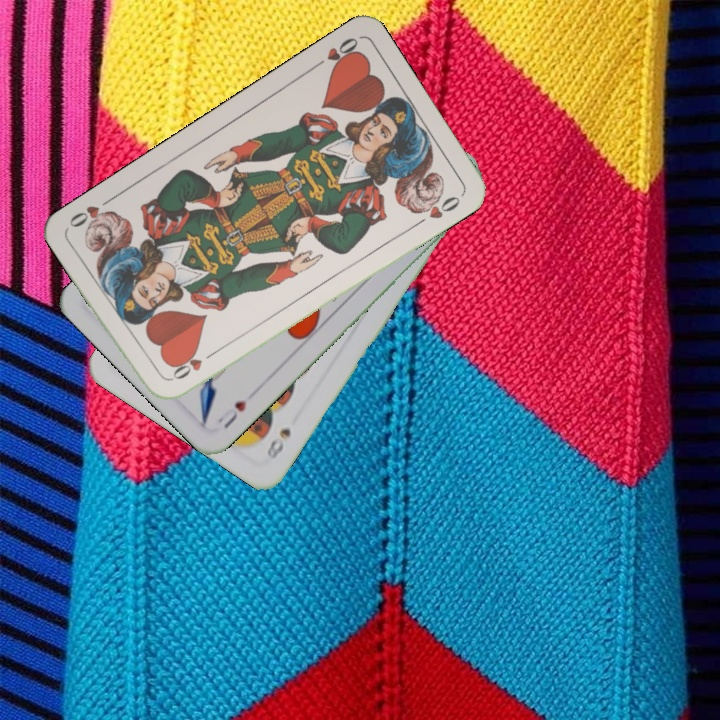HO: (308, 33, 362, 72), (165, 346, 219, 384)
HU: (213, 396, 250, 431)
S8: (262, 424, 294, 463)
